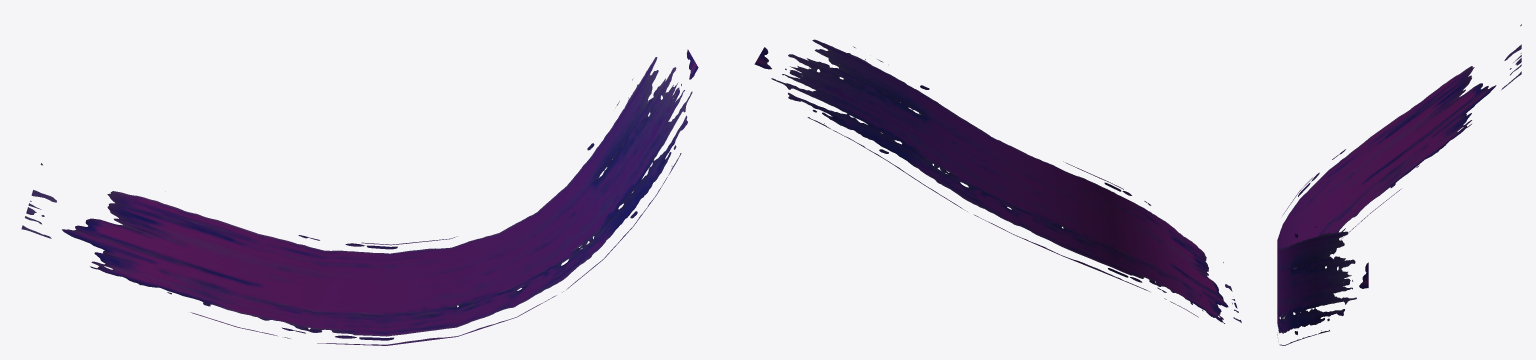
The model's file is effect_jiaxu_1.FBX.
3 renders of one model, left to right at view 1: azimuth 30°, elevation 25°; view 2: azimuth 150°, elevation 25°; view 3: azimuth 270°, elevation 25°, orthographic. The views are drawn at different scales.
Parts seen in each view (by area): view 1: effect_jiaxu_1; view 2: effect_jiaxu_1; view 3: effect_jiaxu_1.
Part boxes in pixels (x1=…): effect_jiaxu_1: x1=21, y1=49, x2=698, y2=345; effect_jiaxu_1: x1=754, y1=39, x2=1241, y2=323; effect_jiaxu_1: x1=1277, y1=24, x2=1521, y2=345.
Bounding box in the file's own units: 206 × 72.62 × 72.07.
Materials: 1 (1 with a texture image).
